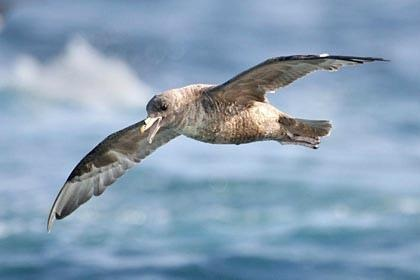bird: (44, 55, 392, 233)
